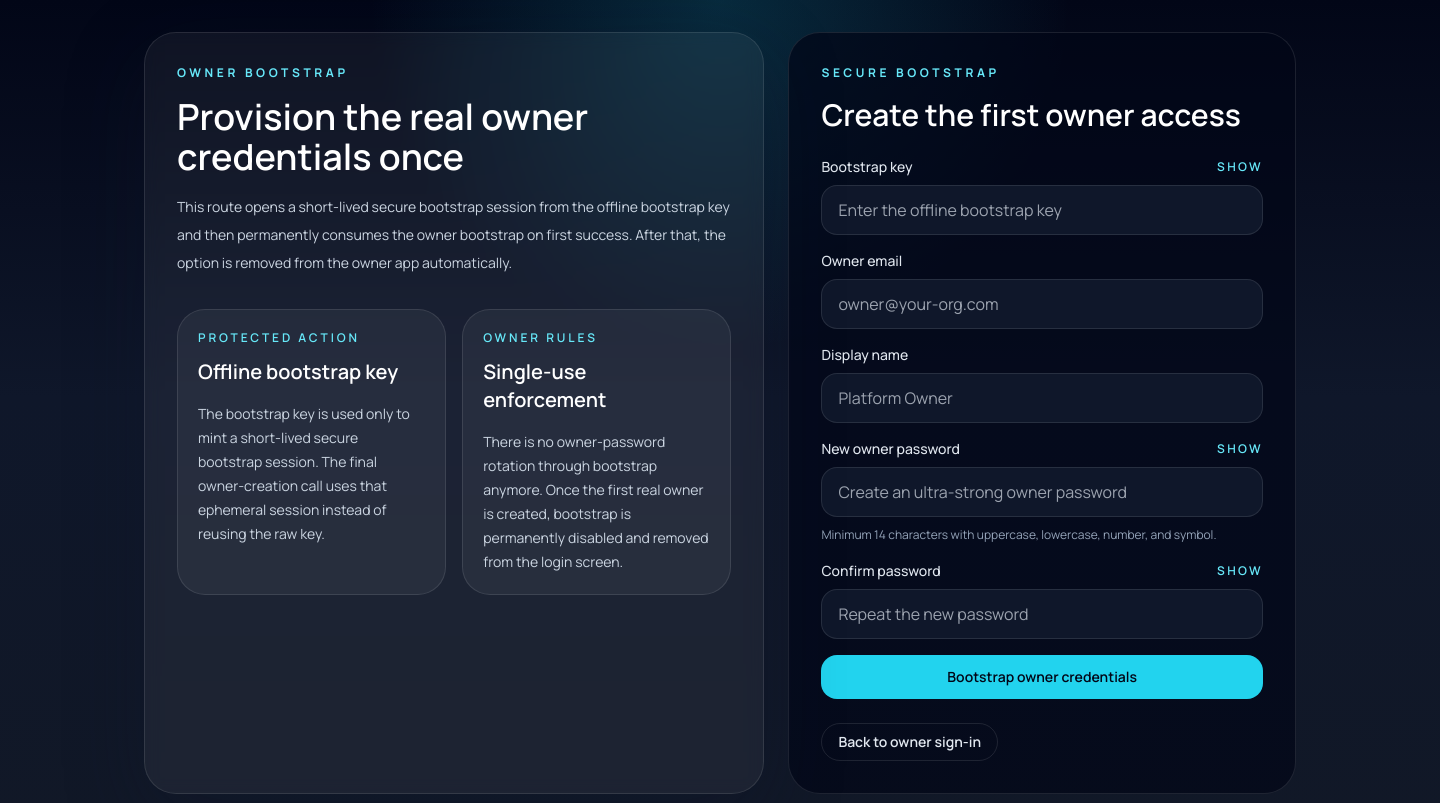
Scenario: owner bootstrap UI › shows a clear error when the bootstrap key is invalid
Type "wrong-key" into the password field labelled "Bootstrap key" at (1042, 210), box [821,185,1263,235]
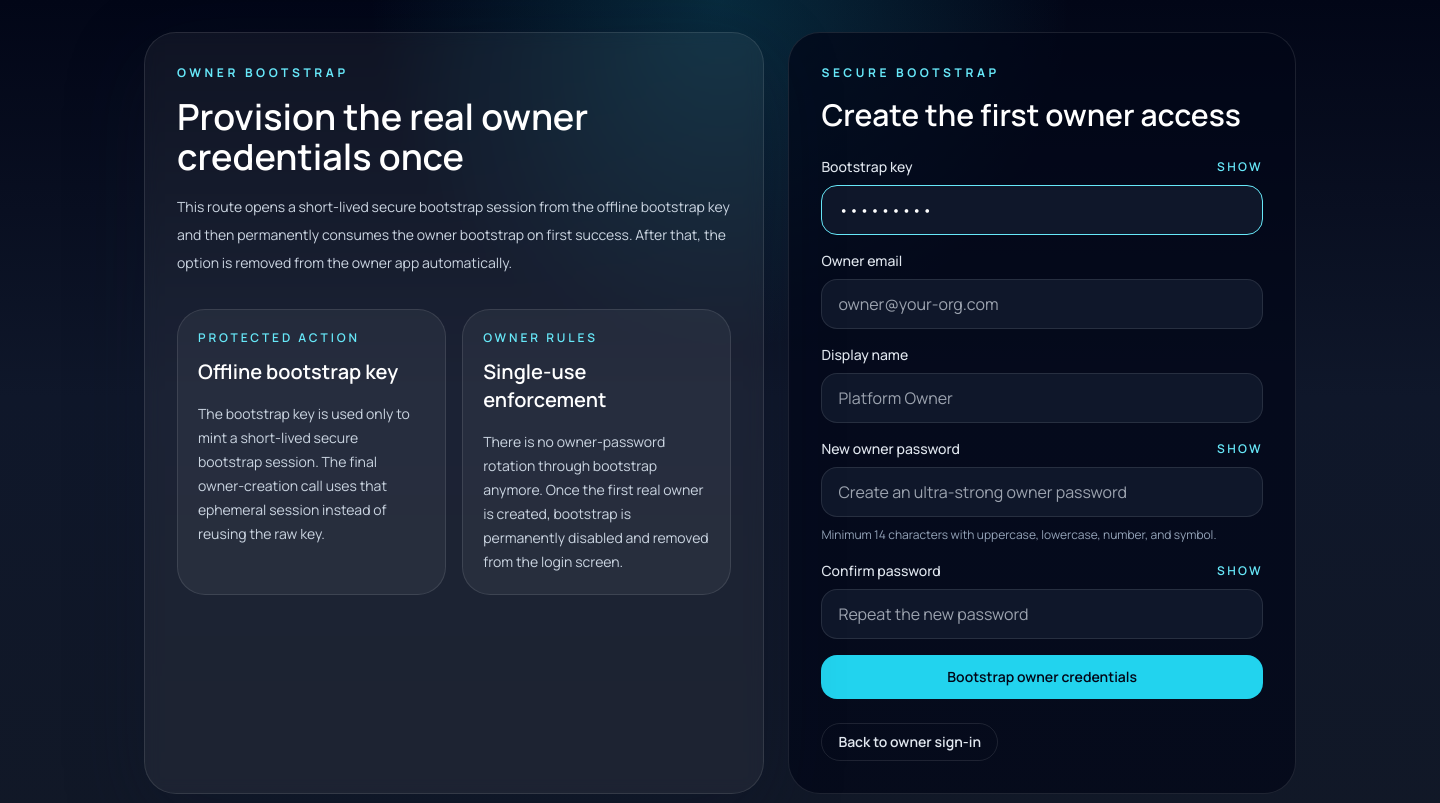
Type "owner@example.com" into the field labelled "Owner email" at (1042, 304), box [821,279,1263,329]
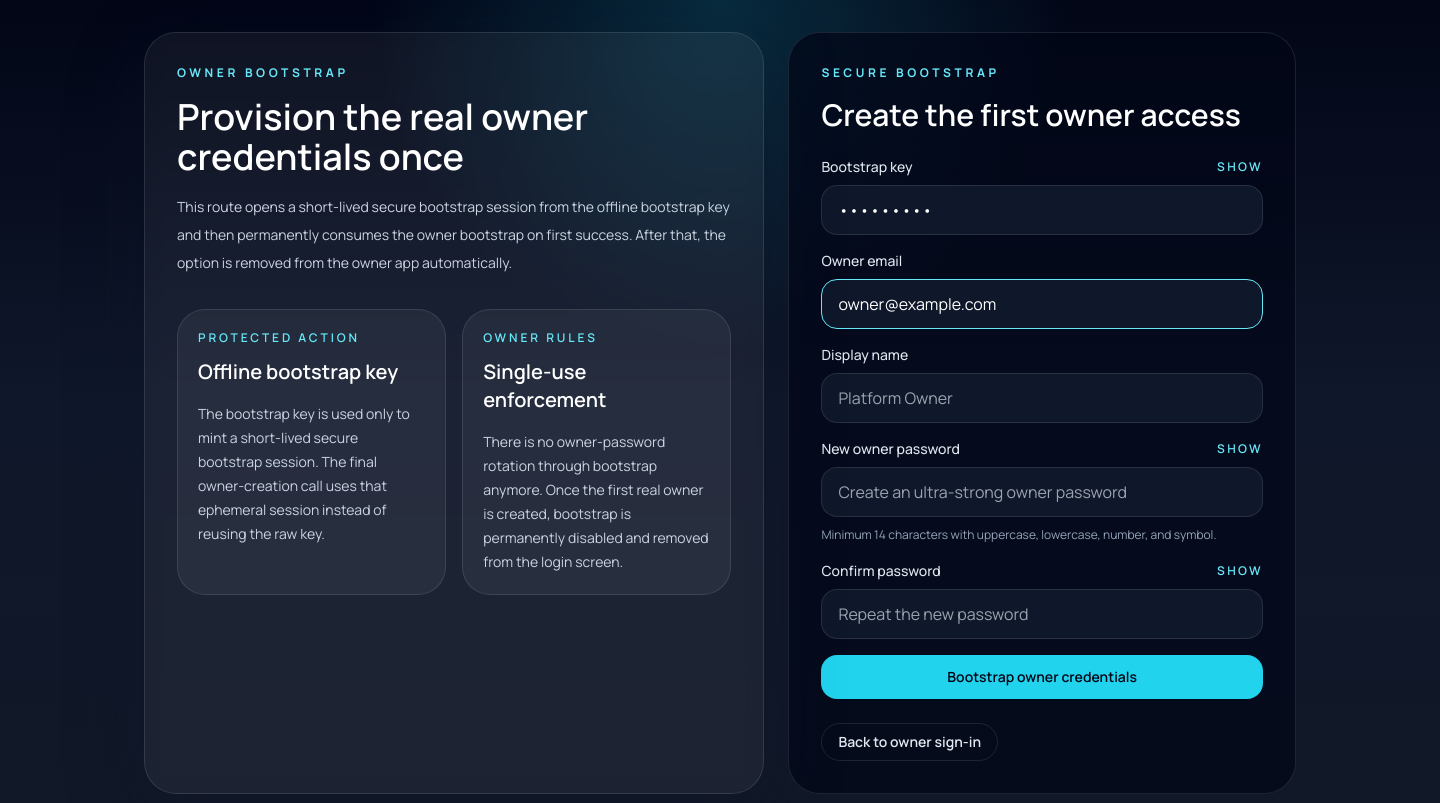
Type "OwnerPassword@123" into the password field labelled "New owner password" at (1042, 492), box [821,467,1263,517]
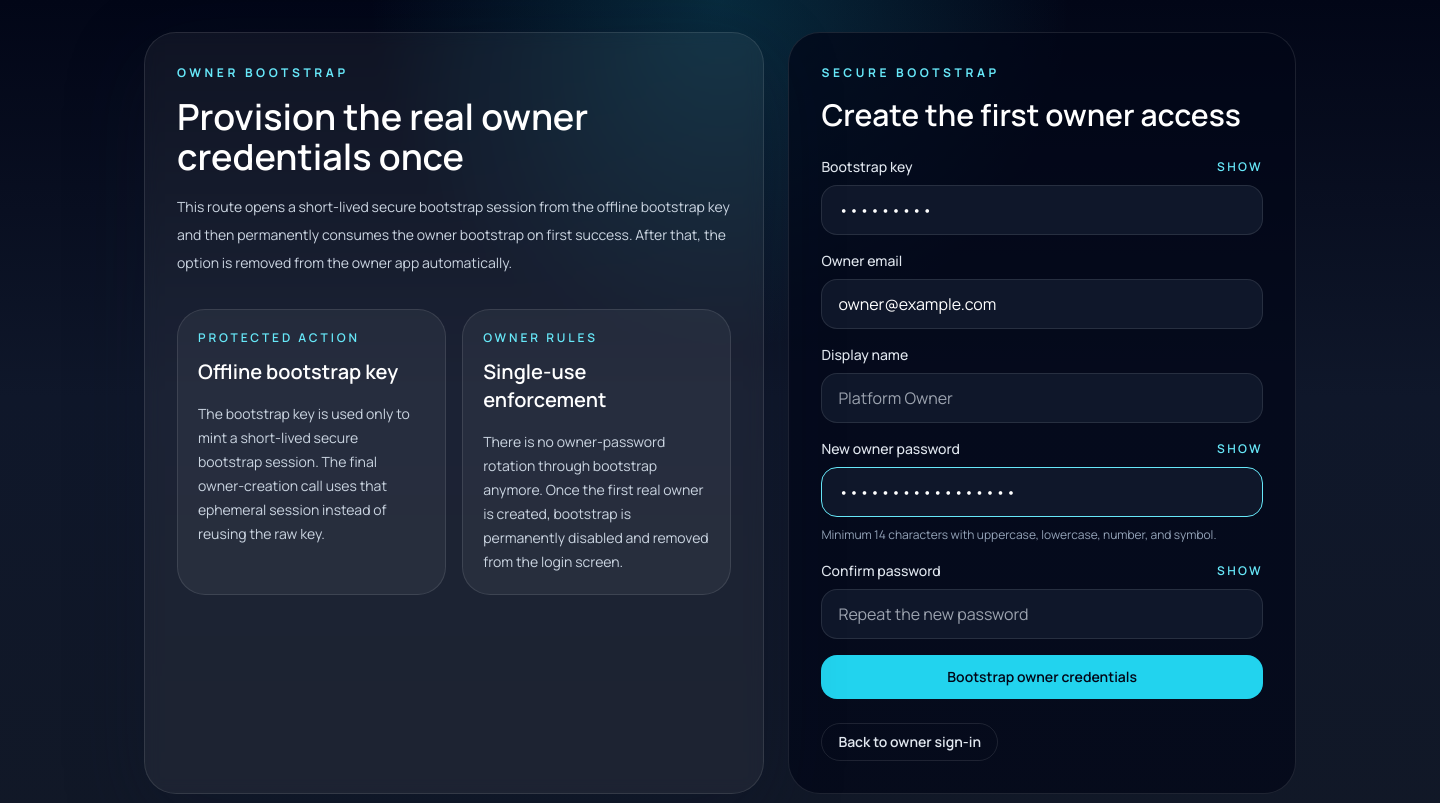
Type "OwnerPassword@123" into the password field labelled "Confirm password" at (1042, 614), box [821,589,1263,639]
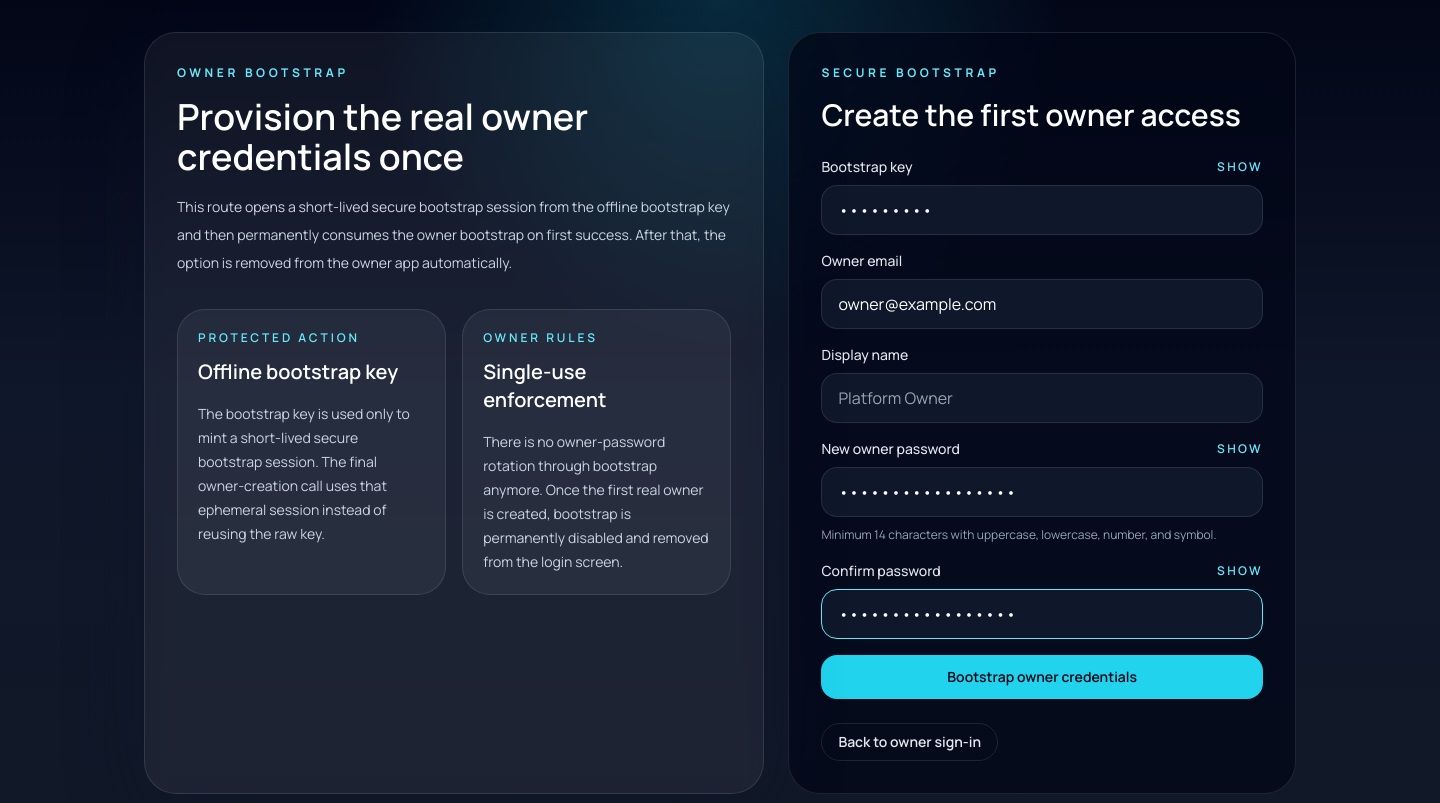
Click the button "Bootstrap owner credentials" at (1042, 677), box [821,655,1263,699]
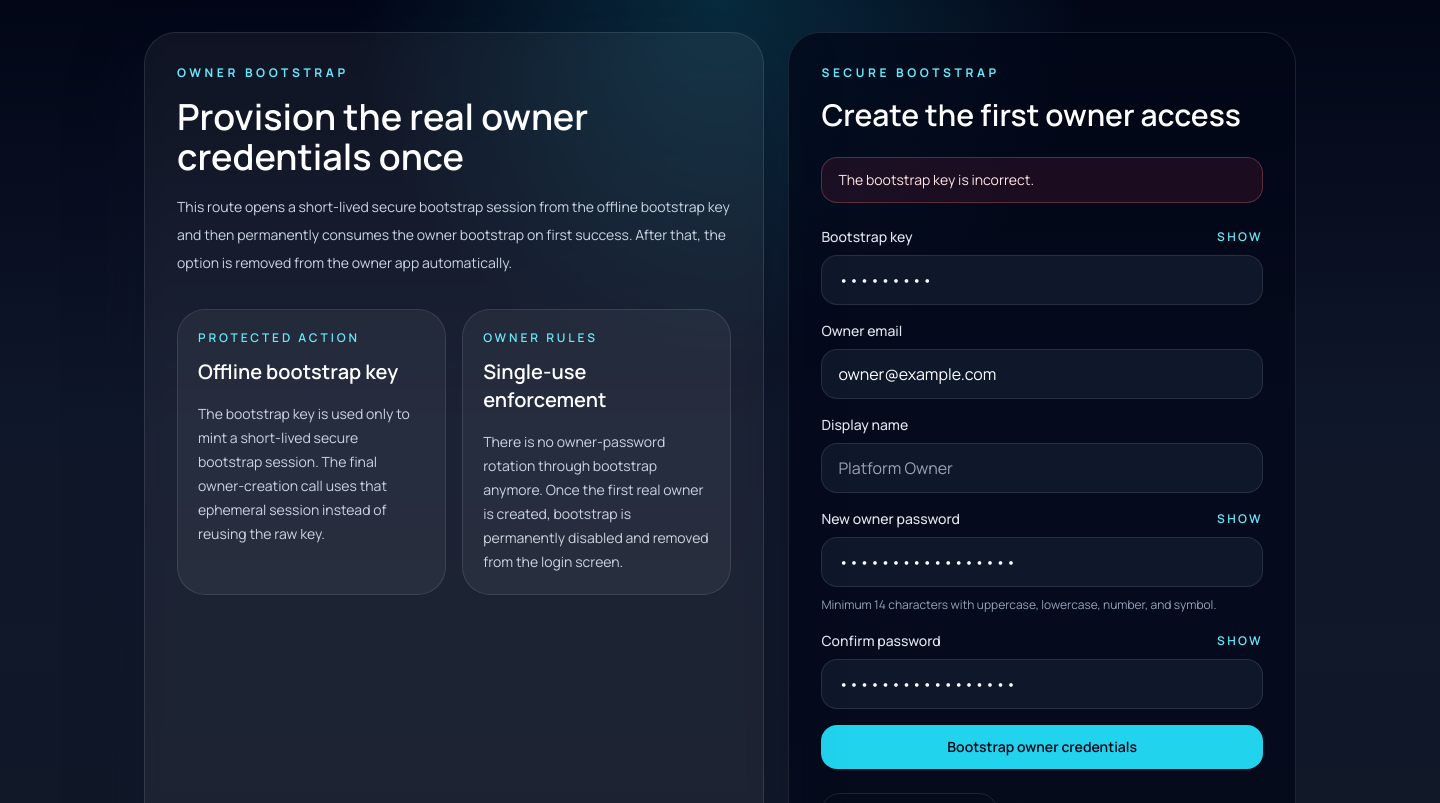
Check: the text "The bootstrap key is incorrect." is shown, box [821,157,1263,203]
